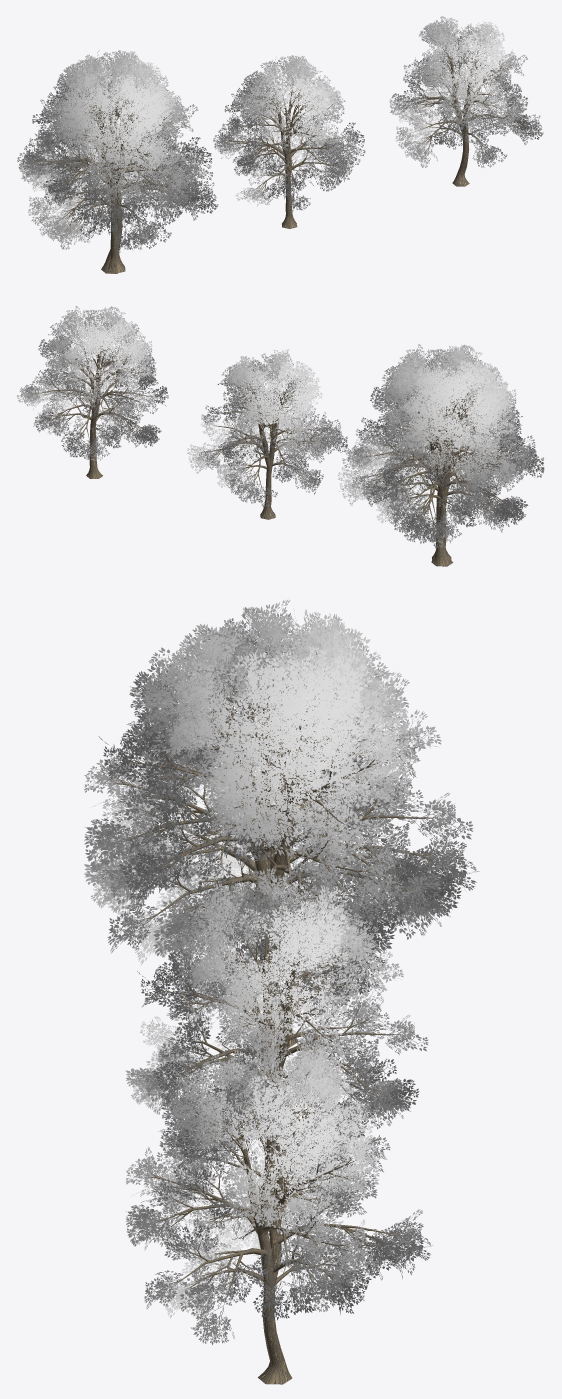
The model's file is Massive Trees 2A1.fbx.
The picture shows the model from 3 angles, top to bottom: view 1: azimuth 30°, elevation 25°; view 2: azimuth 150°, elevation 25°; view 3: azimuth 270°, elevation 25°; orthographic projection. The views are drawn at different scales.
Visible parts, largest first — view 1: tree.258, tree.255, tree.256; view 2: tree.258, tree.256, tree.255; view 3: tree.258, tree.256, tree.255.
Part boxes in pixels (x1,y1,x2,y2): tree.258: [17, 50, 218, 273]; tree.255: [213, 55, 365, 228]; tree.256: [389, 16, 543, 186]; tree.258: [338, 344, 544, 566]; tree.256: [17, 306, 168, 478]; tree.255: [187, 349, 347, 519]; tree.258: [84, 599, 479, 1047]; tree.256: [125, 1034, 432, 1384]; tree.255: [125, 868, 428, 1211].
Bounding box in the file's own units: 7235 × 2901 × 2562.
